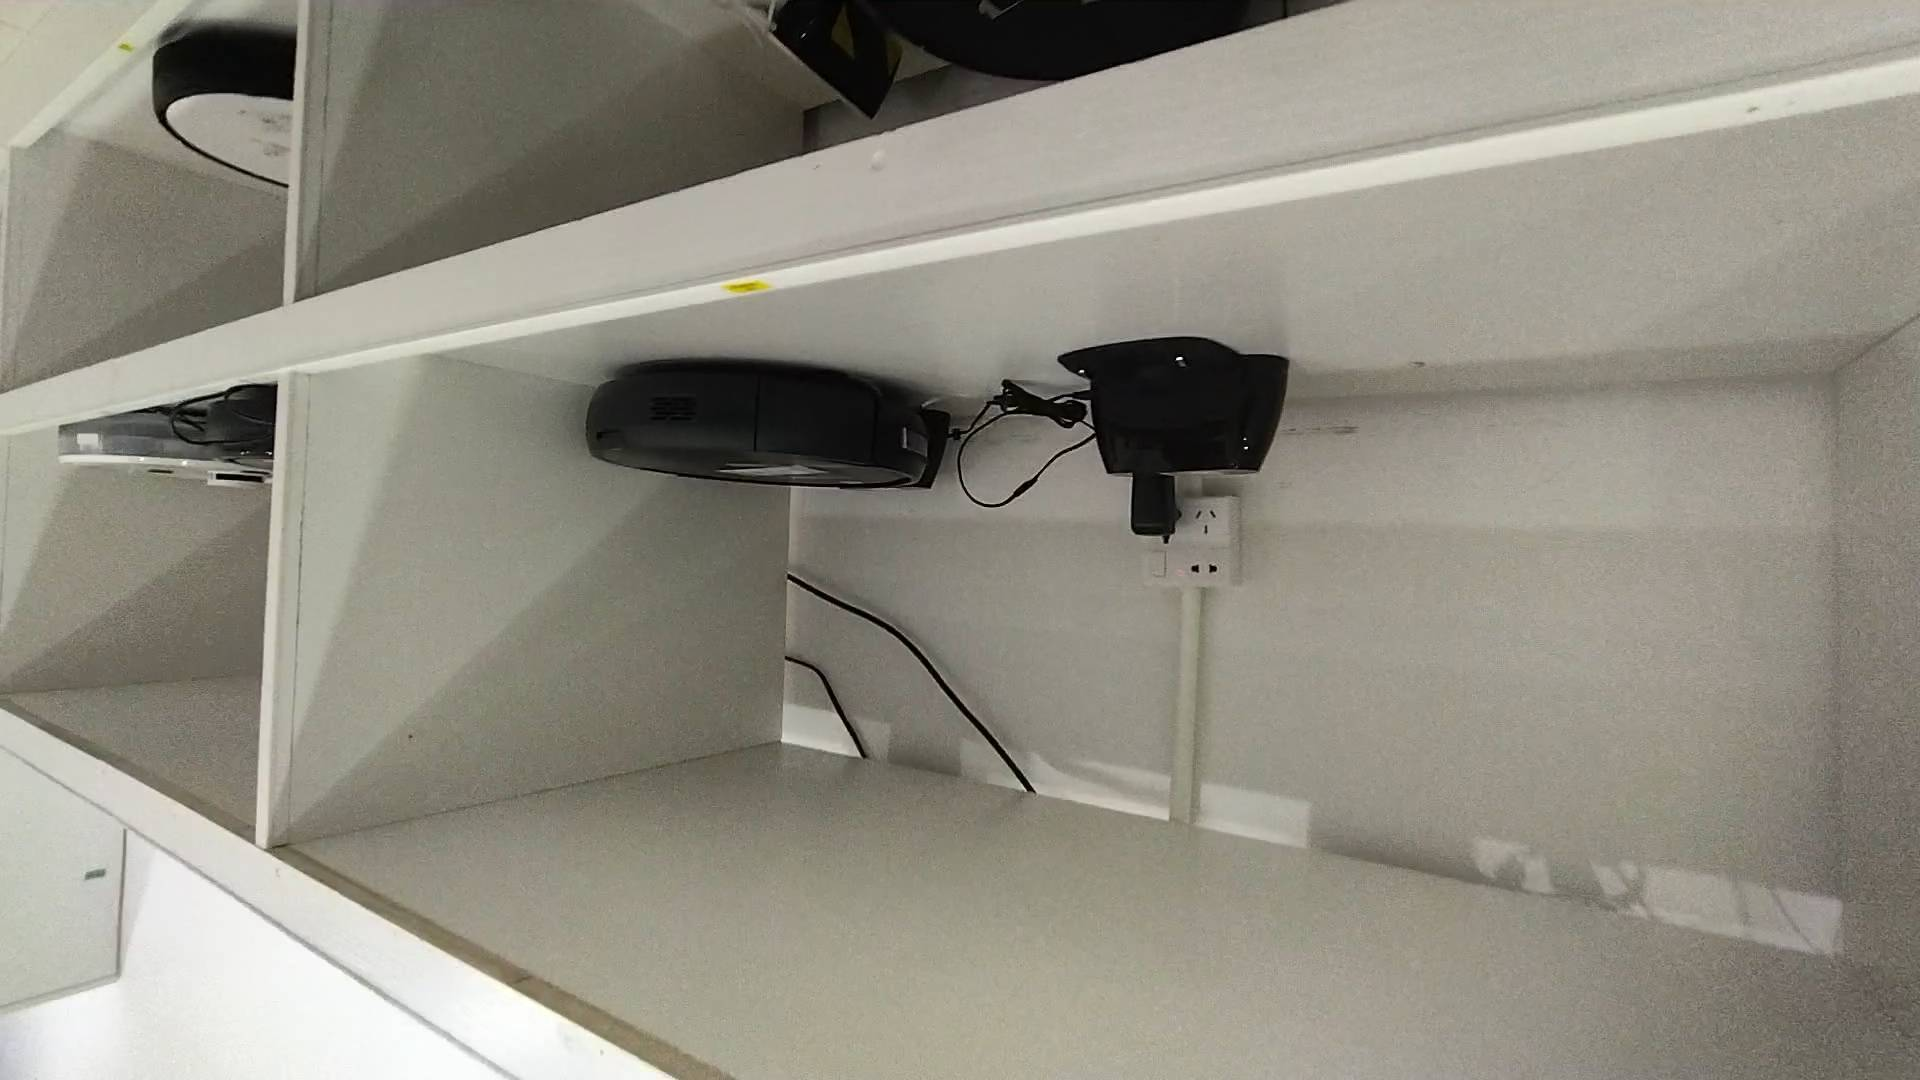recharge seat: (1055, 338, 1294, 479)
